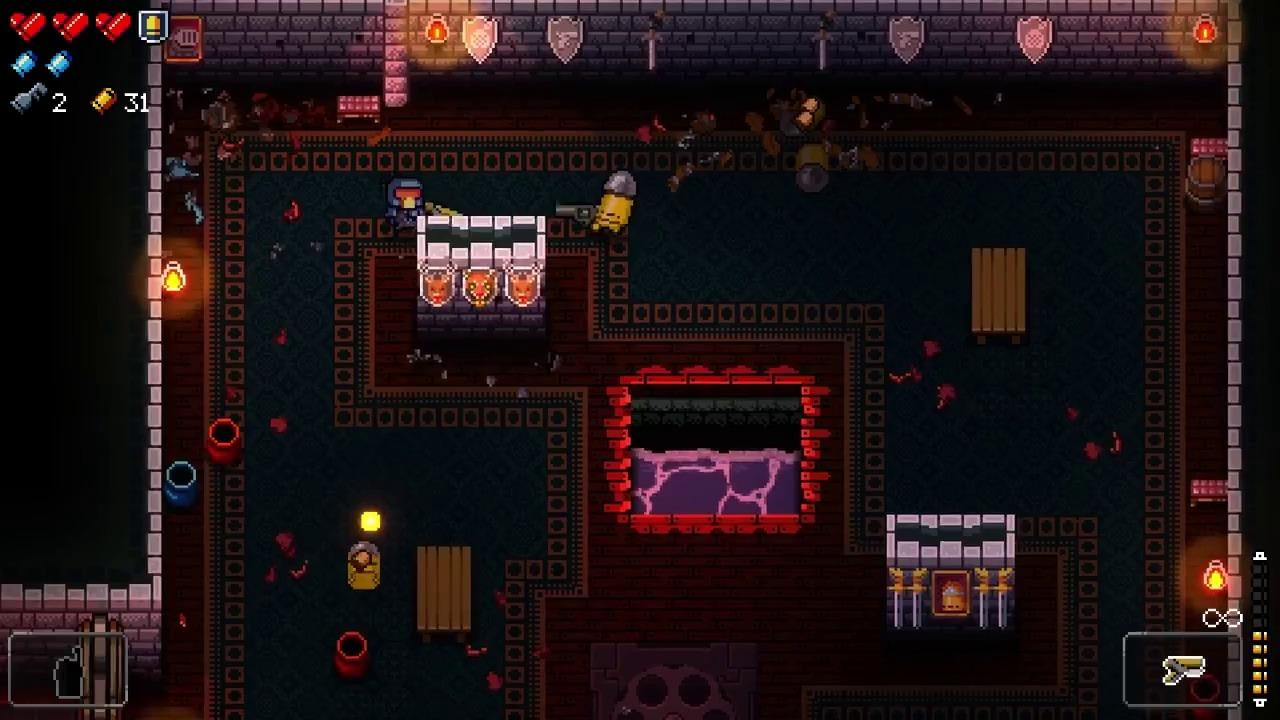bullet_kin: (597, 168, 638, 233)
dead_bullet_kin: (347, 542, 381, 591)
locked_door: (77, 611, 125, 720)
player: (387, 176, 426, 228)
table: (418, 546, 470, 646), (972, 249, 1026, 343)
water_pit: (604, 360, 831, 538)
